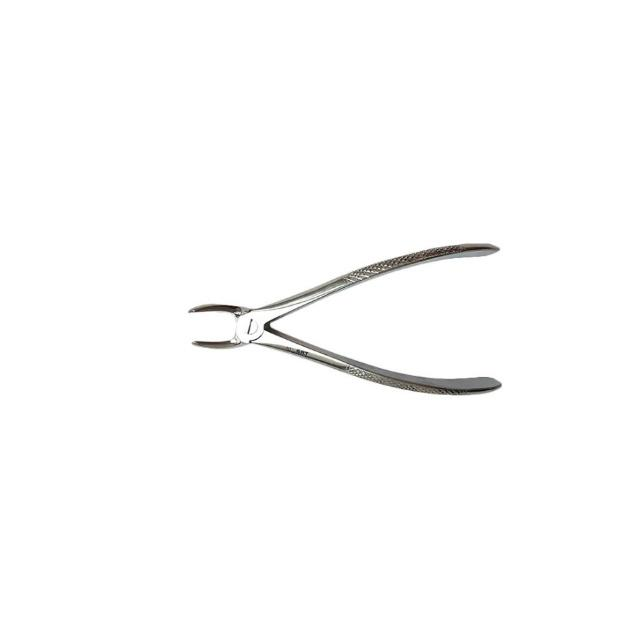forceps: (189, 244, 503, 398)
